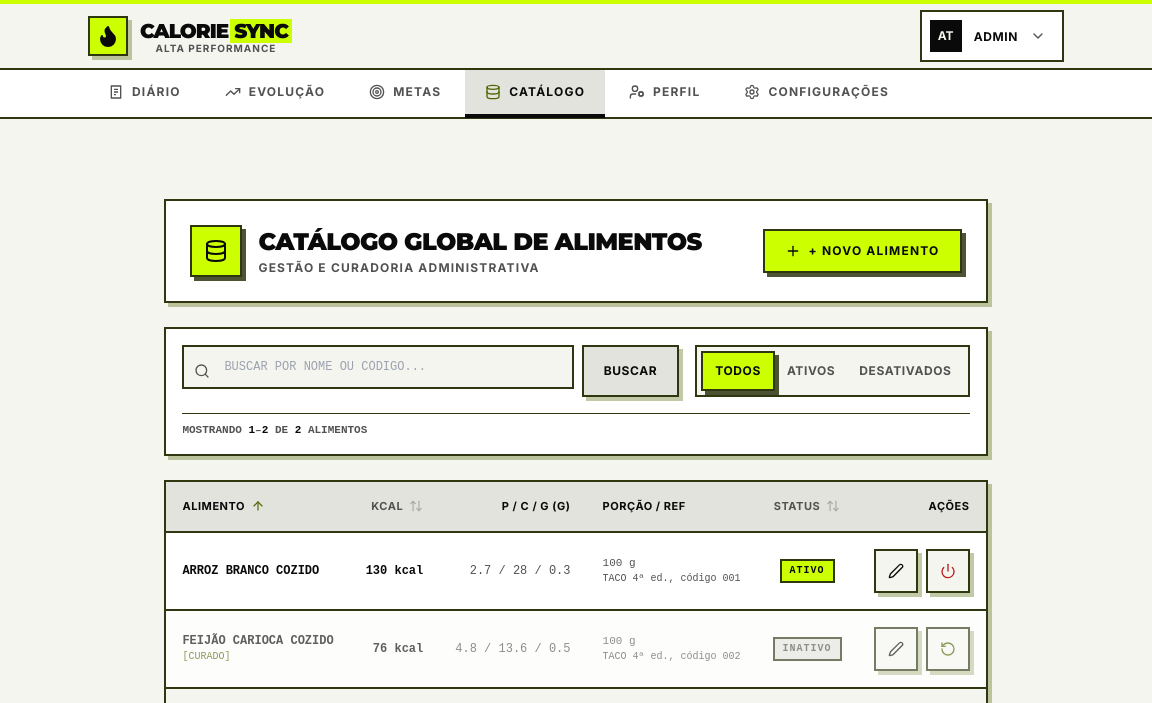
Test case: Painel do Catálogo Global (Admin) › Desativa alimento com diálogo acessível de confirmação (B4)
The image size is (1152, 703).
Click the button named "Desativar Arroz Branco Cozido": [948, 570] box left=926, top=548, right=970, bottom=592
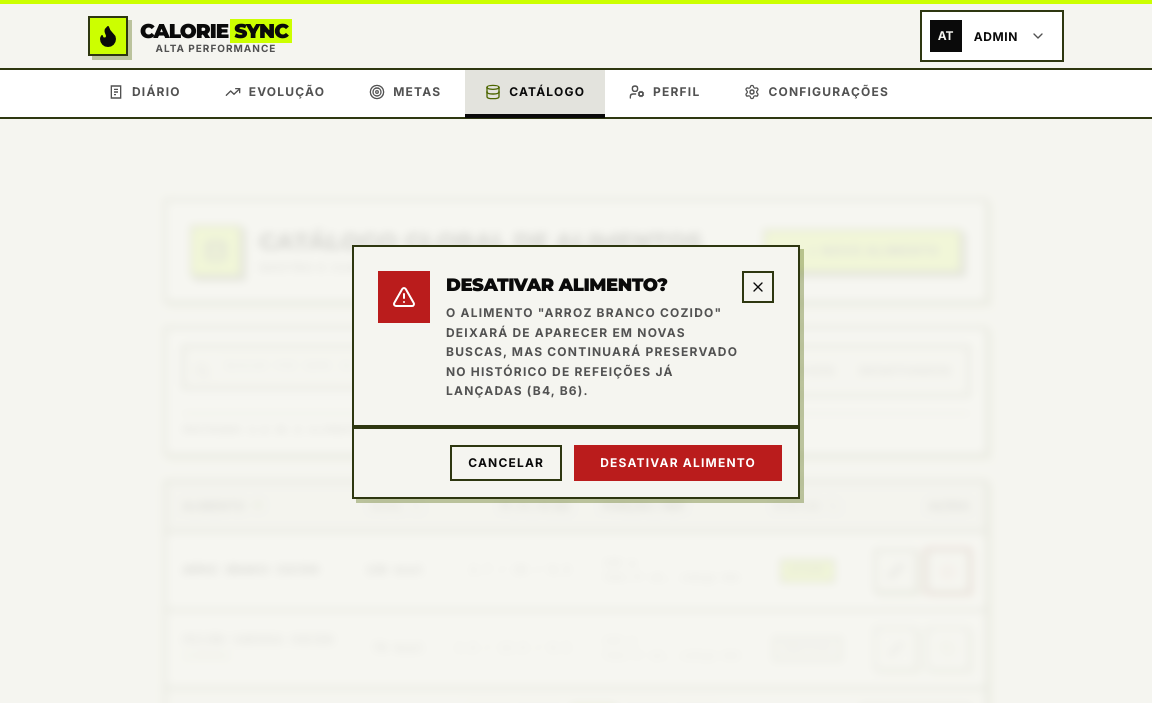
Expected: the dialog "Desativar Alimento?" is shown, left=352, top=245, right=800, bottom=499
Expected: the text "deixará de aparecer em novas buscas" is shown, left=446, top=325, right=738, bottom=398
Click the button "Desativar Alimento": [678, 463] box left=574, top=445, right=782, bottom=481
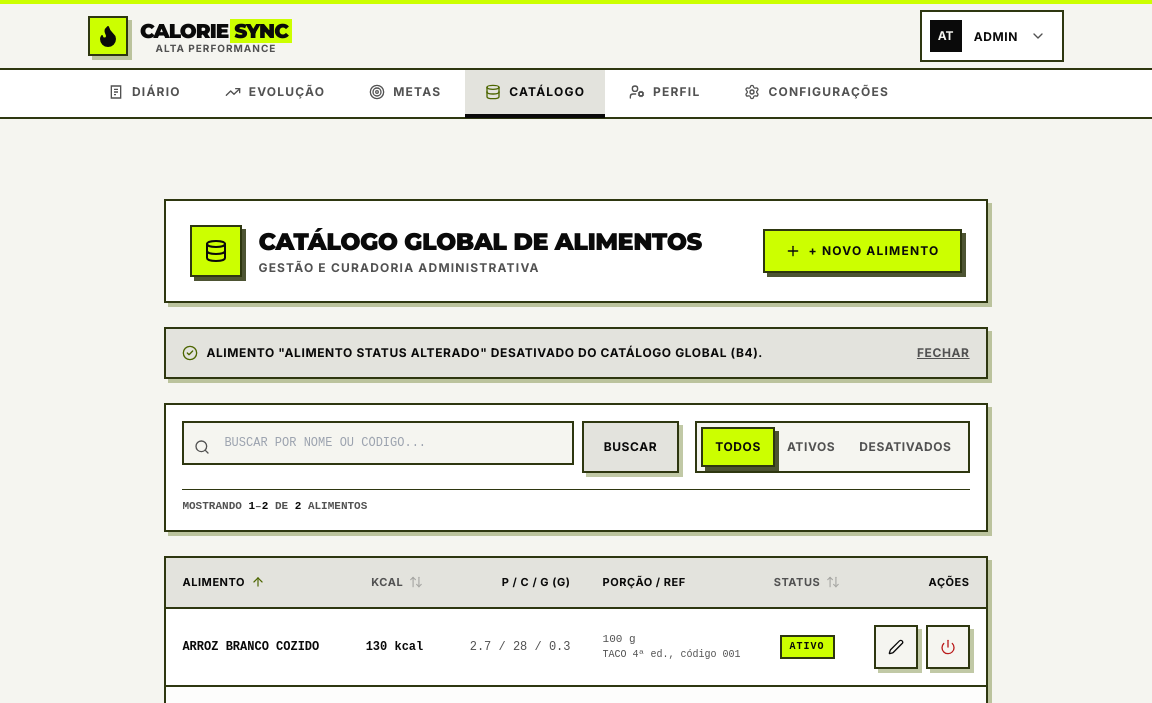
Expected: the text "desativado do catálogo global" is shown, left=206, top=345, right=763, bottom=360
